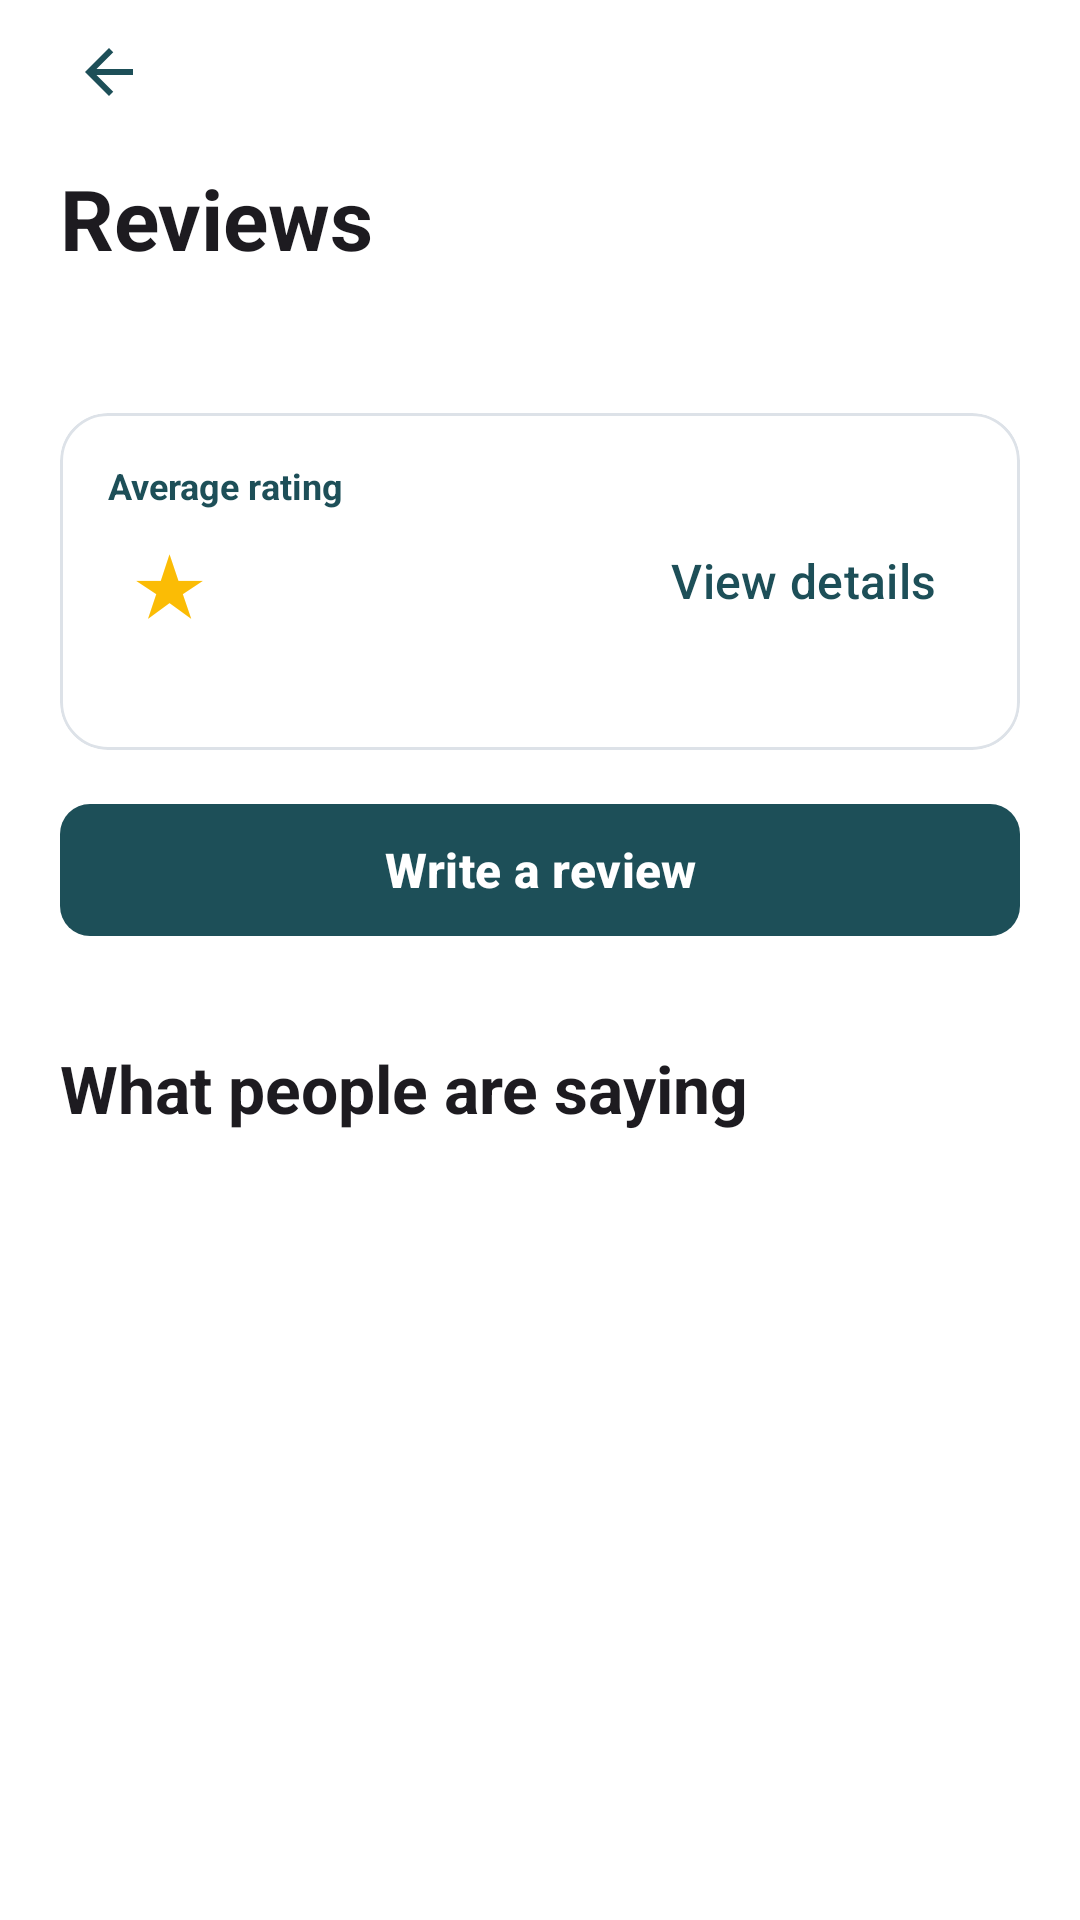

Screen size 1080×1920. Icon name, then its center in pixels as point (x, y):
Back: point (109, 72)
